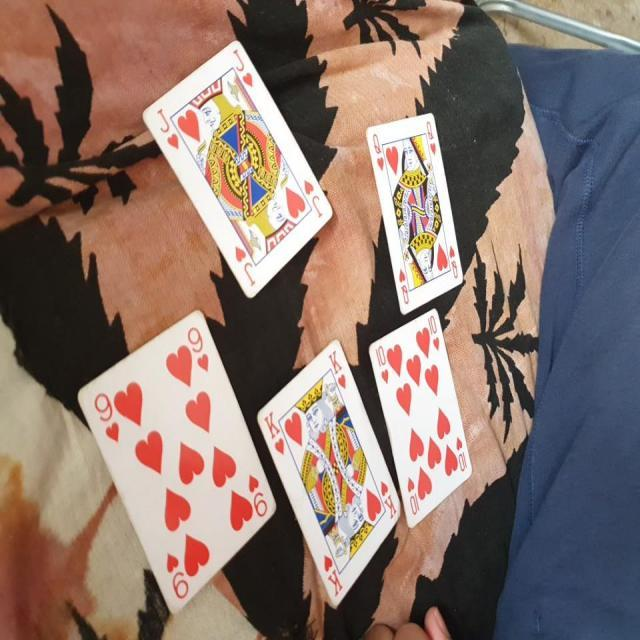10 of hearts: (356, 308, 474, 522)
9 of hearts: (78, 300, 279, 628)
jack of hearts: (140, 39, 340, 310)
king of hearts: (250, 338, 406, 608)
queen of hearts: (360, 103, 464, 317)
